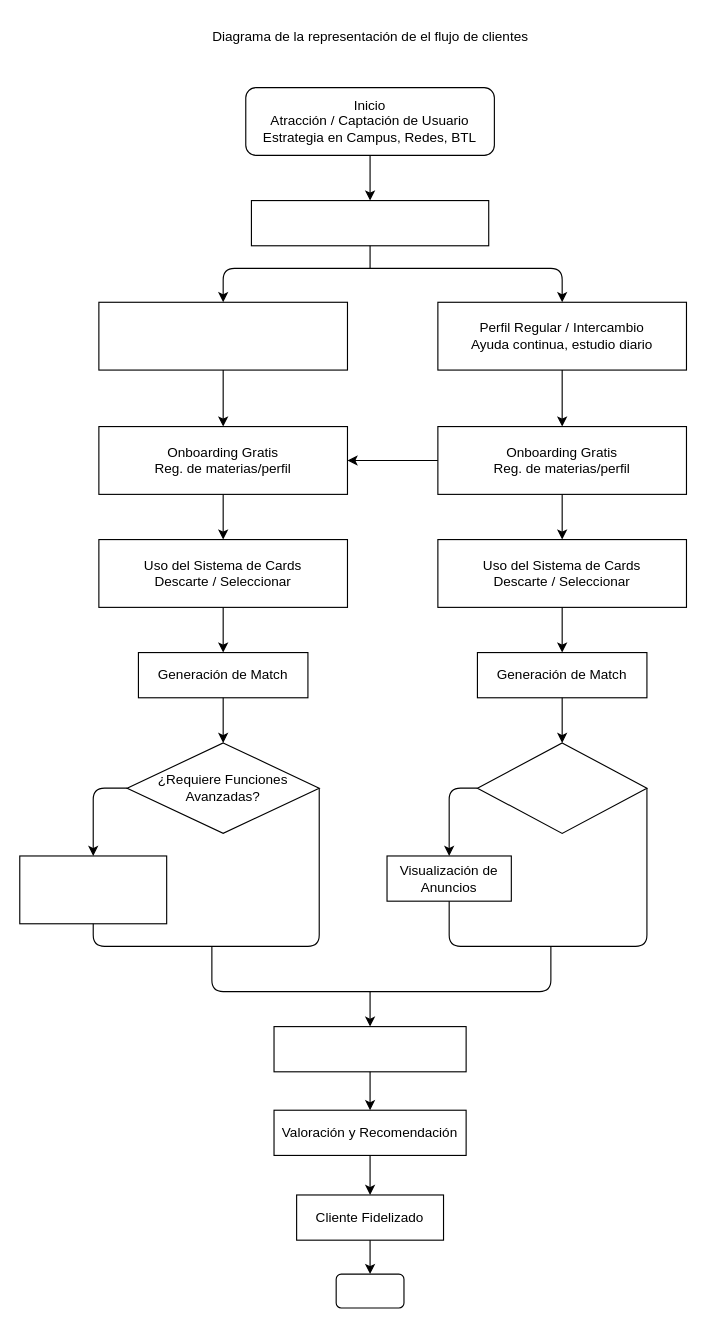
Image size: 706x1328. Some labels were removed from this diagram. Here are the shapes that lost their labels. From the top down, the box of each, then its label:
(250, 199, 489, 246): Segmentación por Perfil de Alumno
(98, 301, 347, 370): Perfil Necesidad Alto Nivel Urgencia: Exámenes, Recuperación
(476, 742, 647, 833): ¿Superó Límite de Swipes?
(19, 855, 167, 924): Conversion a Paga / Premium
(273, 1025, 466, 1072): Experiencia de Tutoría / Chat
(335, 1273, 404, 1308): Fin
